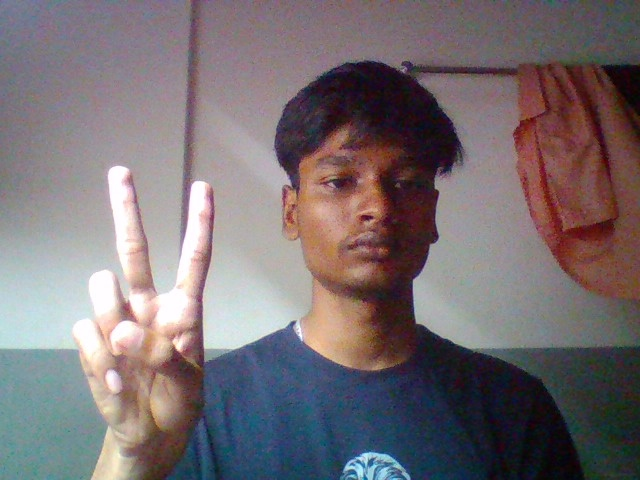V: (52, 165, 243, 480)
